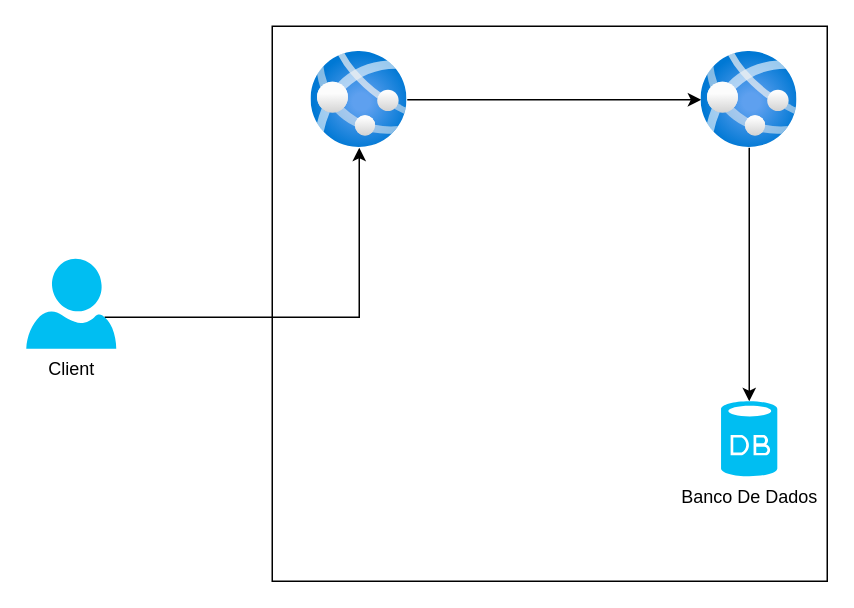
Image size: 854x608. Some labels were removed from this diagram. Here are the shapes that lost their labels. From the top down, the centre of each, then its label:
point (358, 99): front-end
point (748, 99): back-end
